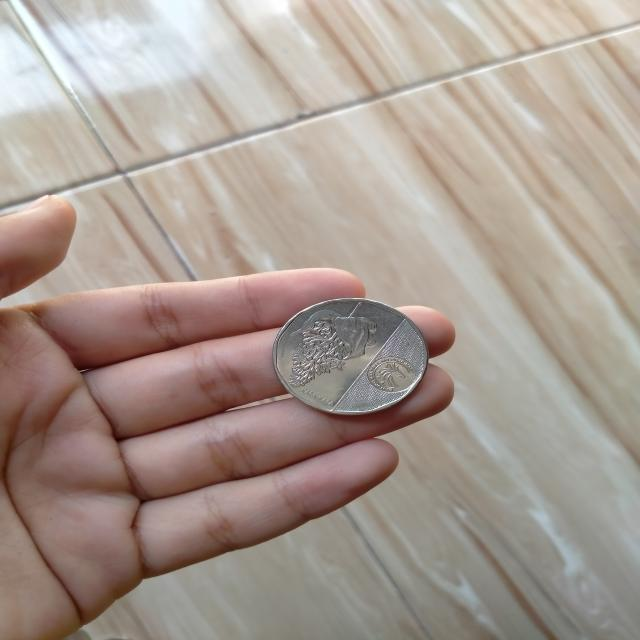10_New_Back: (282, 298, 386, 394)
